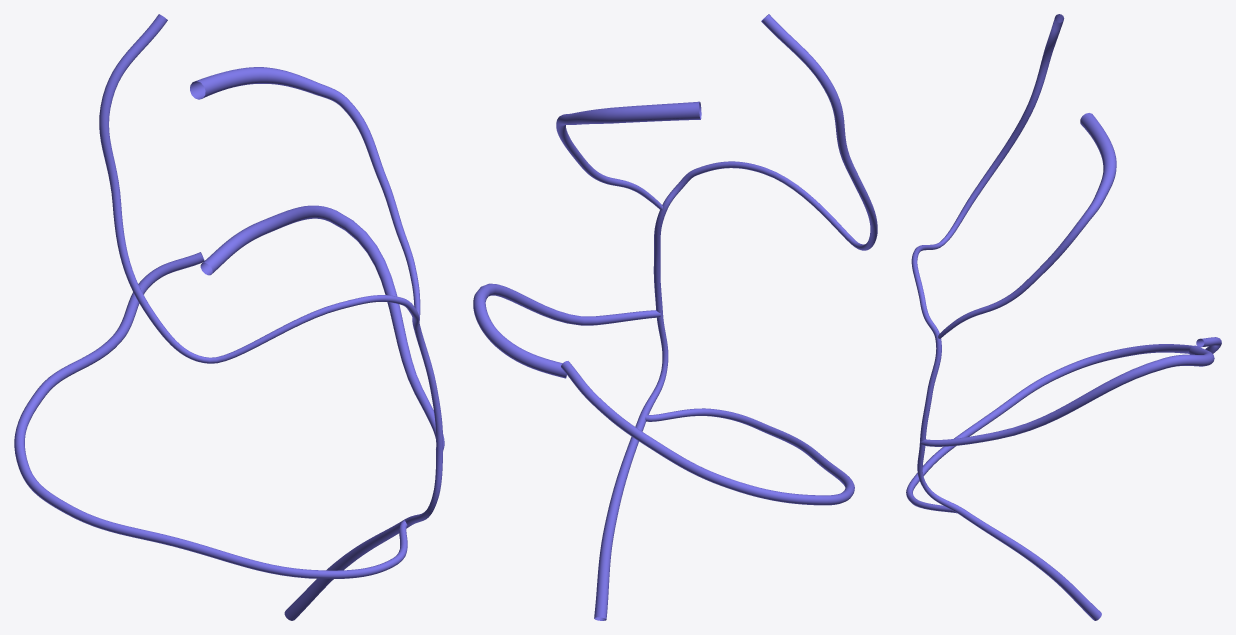
File: Genicular_veins.l_BezierCurve.330.glb
The picture shows the model from 3 angles, left to right: view 1: azimuth 30°, elevation 25°; view 2: azimuth 150°, elevation 25°; view 3: azimuth 270°, elevation 25°; orthographic projection. The views are drawn at different scales.
Visible parts, largest first — view 1: Genicular_veins.l_BezierCurve.330; view 2: Genicular_veins.l_BezierCurve.330; view 3: Genicular_veins.l_BezierCurve.330.
Boxes of the visible parts, x1,y1,x2,y2 form: Genicular_veins.l_BezierCurve.330: (14, 14, 444, 620); Genicular_veins.l_BezierCurve.330: (473, 14, 877, 620); Genicular_veins.l_BezierCurve.330: (906, 14, 1221, 620).
Size of the model in its own units: 0.0937 by 0.1646 by 0.0866.
